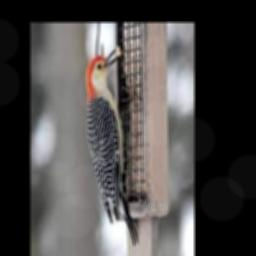Woodpecker: (86, 47, 138, 245)
